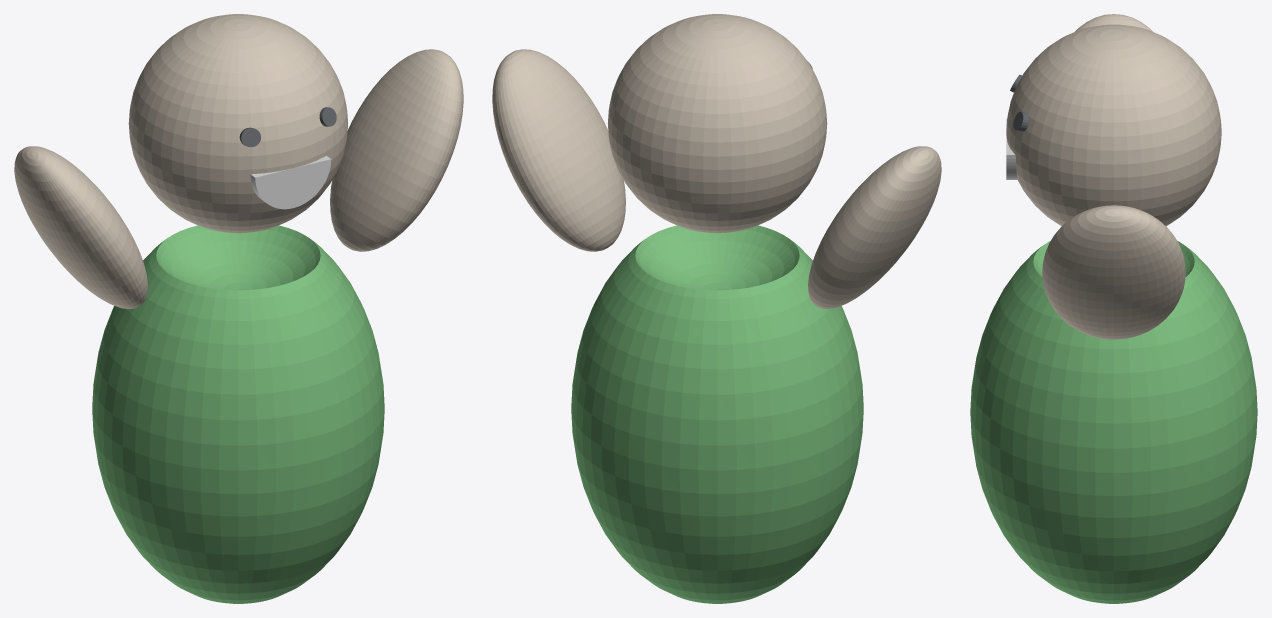
Rendered from green.glb.
3 views of the same model, side by side, from view 1: azimuth 30°, elevation 25°; view 2: azimuth 150°, elevation 25°; view 3: azimuth 270°, elevation 25° (orthographic).
Visible parts, largest first — view 1: Mesh_Mesh_head_geo.001_lambert2SG.001; view 2: Mesh_Mesh_head_geo.001_lambert2SG.001; view 3: Mesh_Mesh_head_geo.001_lambert2SG.001.
Boxes of the visible parts, x1=… form: Mesh_Mesh_head_geo.001_lambert2SG.001: x1=14, y1=14, x2=463, y2=603; Mesh_Mesh_head_geo.001_lambert2SG.001: x1=492, y1=14, x2=941, y2=603; Mesh_Mesh_head_geo.001_lambert2SG.001: x1=970, y1=14, x2=1257, y2=603.
Bounding box in the file's own units: 33.75 × 43 × 20.
